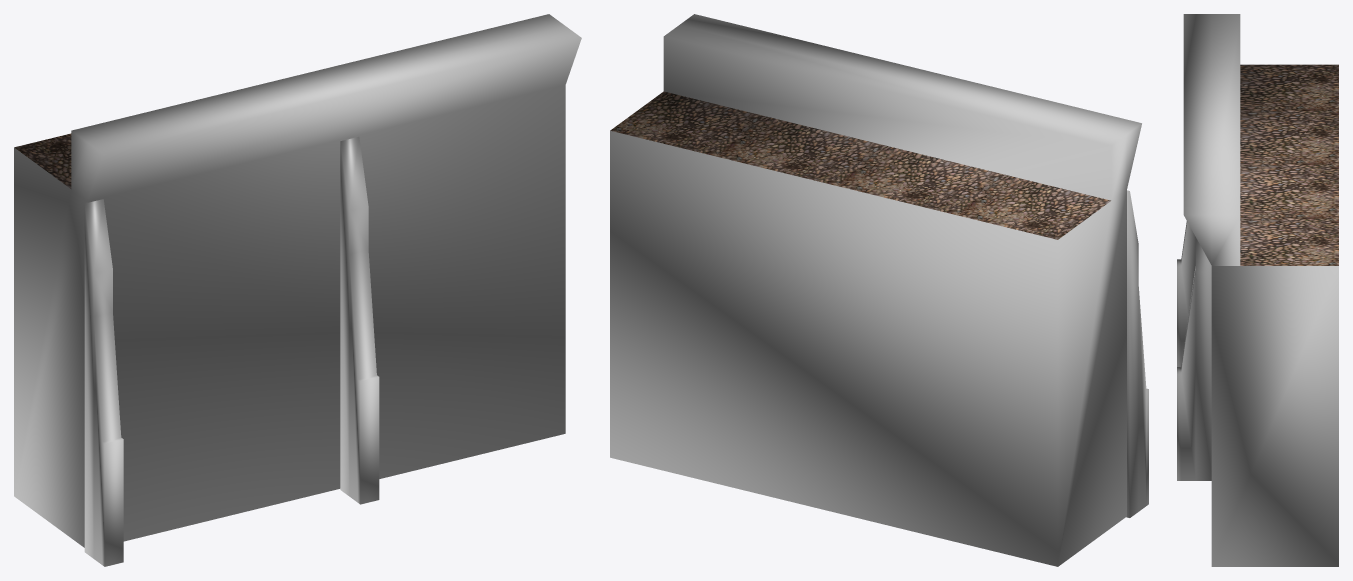
The model's file is WallC.fbx.
3 renders of one model, left to right at view 1: azimuth 30°, elevation 25°; view 2: azimuth 150°, elevation 25°; view 3: azimuth 270°, elevation 25°, orthographic. The views are drawn at different scales.
Visible parts, largest first — view 1: wallC; view 2: wallC; view 3: wallC.
Boxes of the visible parts, x1,y1,x2,y2 form: wallC: (14, 14, 581, 566); wallC: (610, 14, 1148, 566); wallC: (1177, 14, 1338, 566).
Bounding box in the file's own units: 361 × 293 × 122.
